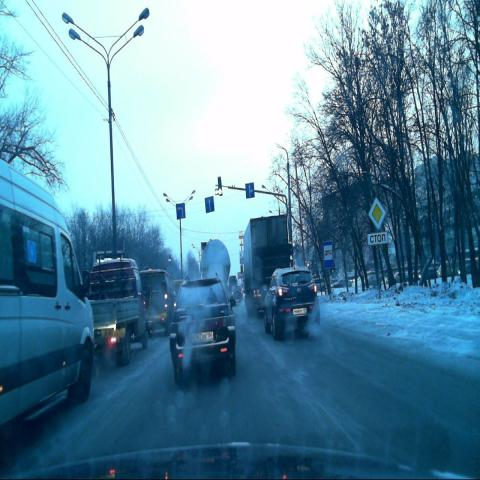2_1: (369, 198, 386, 231)
5_15_2: (245, 182, 255, 199), (176, 203, 186, 219), (205, 196, 214, 213)
6_16: (368, 232, 388, 244)
7_12: (322, 240, 334, 268)
